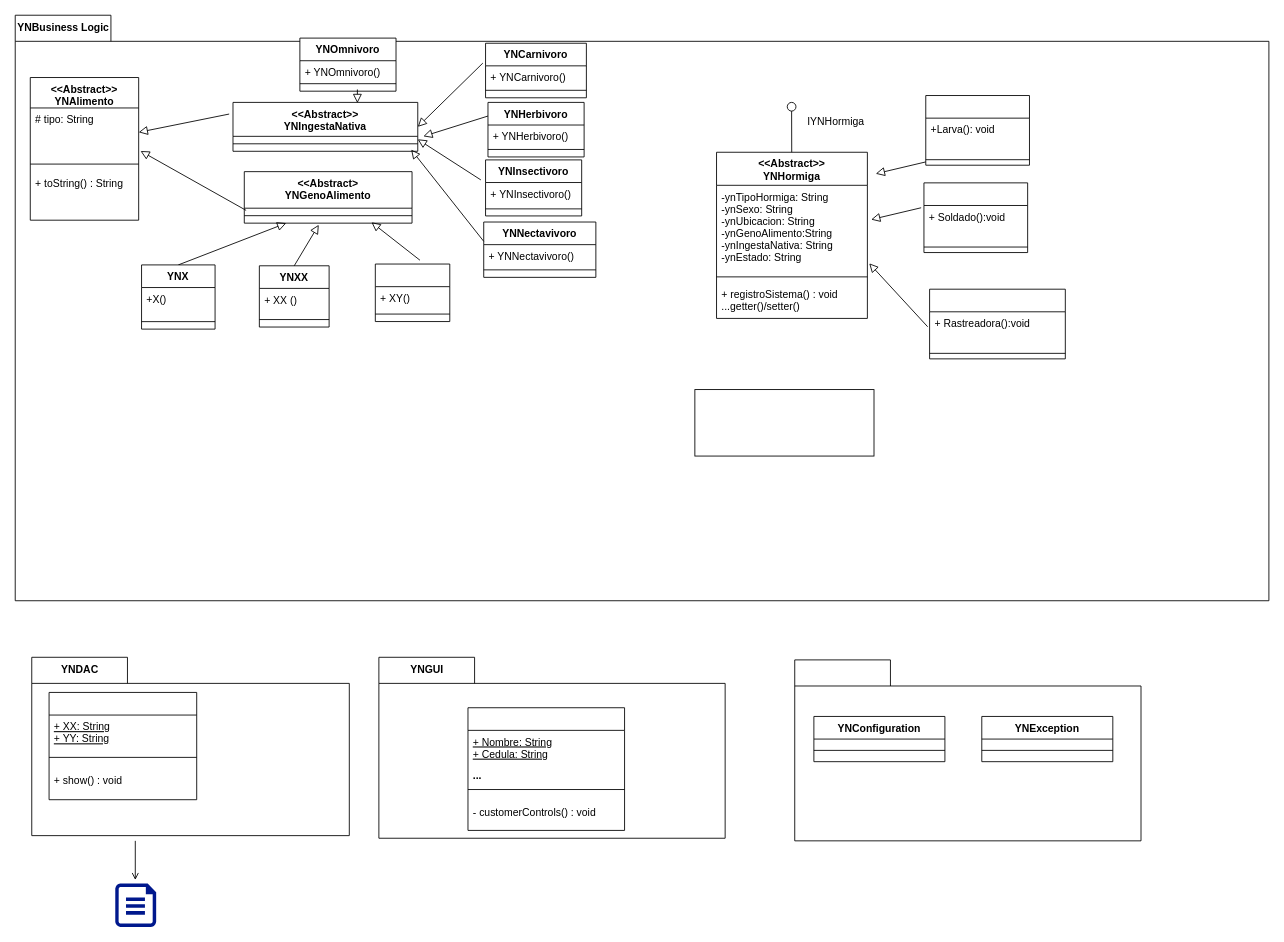
This 1284x942 diagram has some shape labels left out. The shapes that lost their labels are listed below. From the top down, each one's box as (x1, y1, x2, y2) in pixels, then its label:
(925, 95, 1029, 165): YNLarva
(923, 182, 1028, 253): YNSoldado
(374, 263, 450, 322): YNXY
(929, 288, 1065, 359): YNRastreadora
(694, 389, 874, 456): <<Interface>> IYNHormiga + yncomer(Alimento) : Boolean
(48, 692, 197, 800): YNFileDAO
(794, 659, 1141, 841): YNFWK
(467, 707, 625, 830): YNFEcuaAnt
